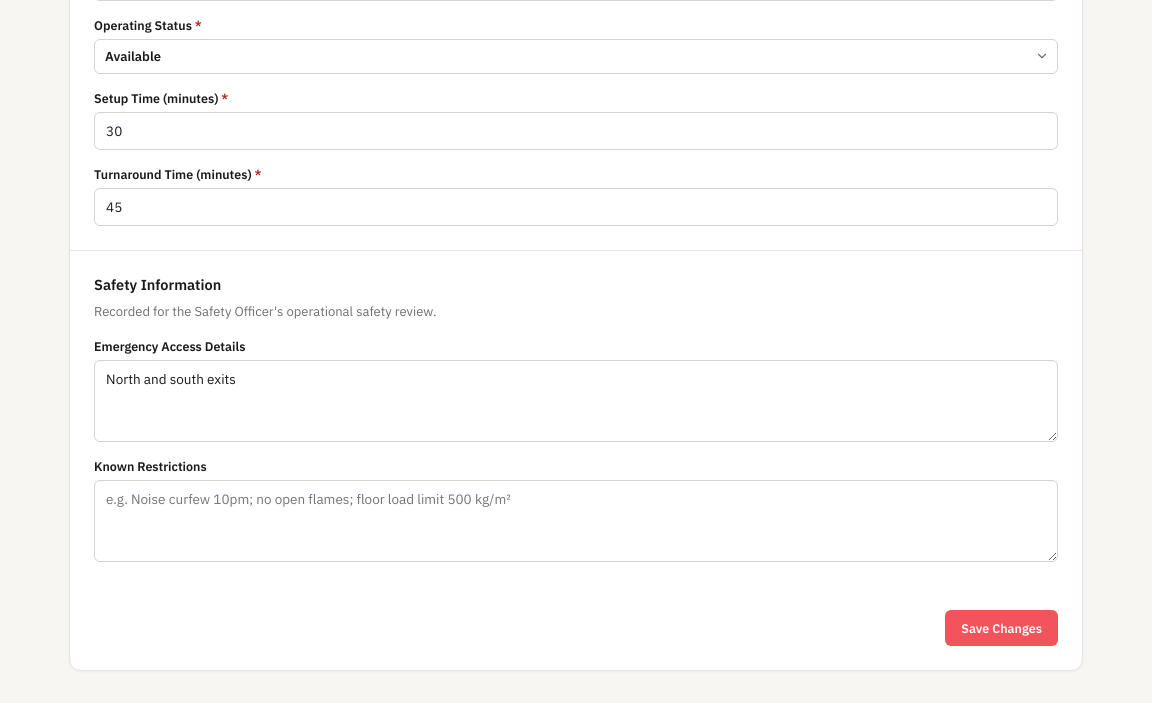
SCRUM-167 AC1: a failed safety save keeps the user on the form with what was typed
The image size is (1152, 703).
(page scrolled)
Replace the text in the text box labelled "Known Restrictions" with "Noise curfew 10pm": (576, 521) [94,480,1058,562]
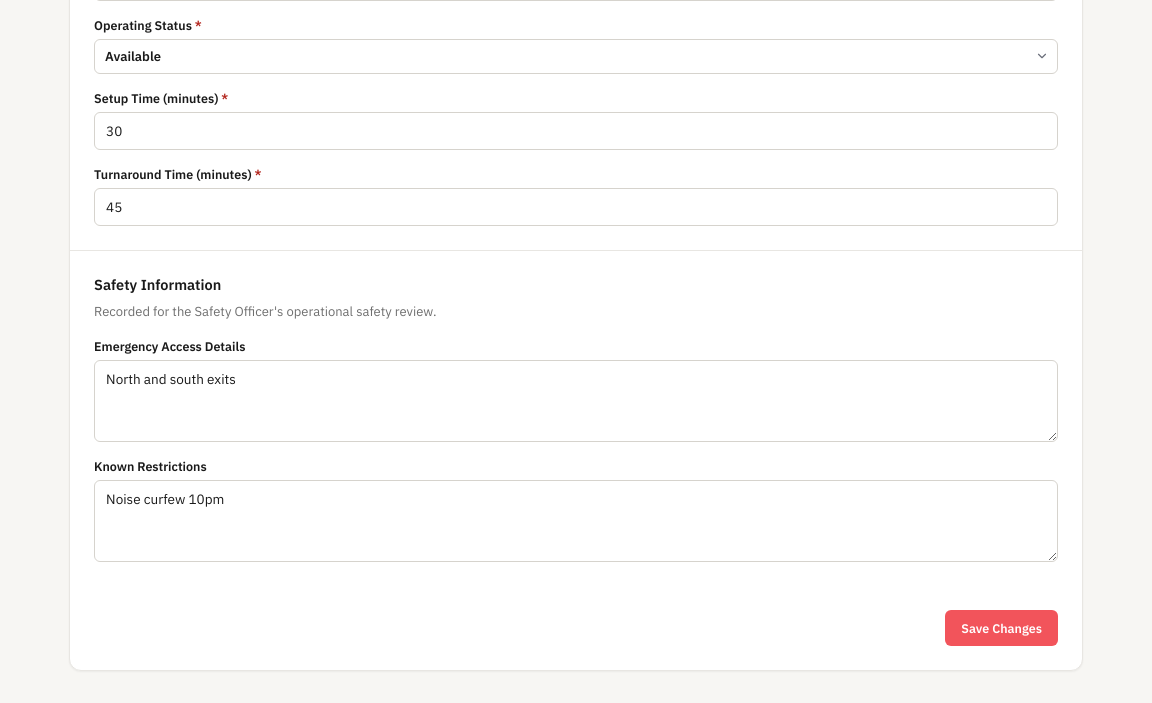
Click the button "Save Changes": (1002, 628) [945,610,1058,646]
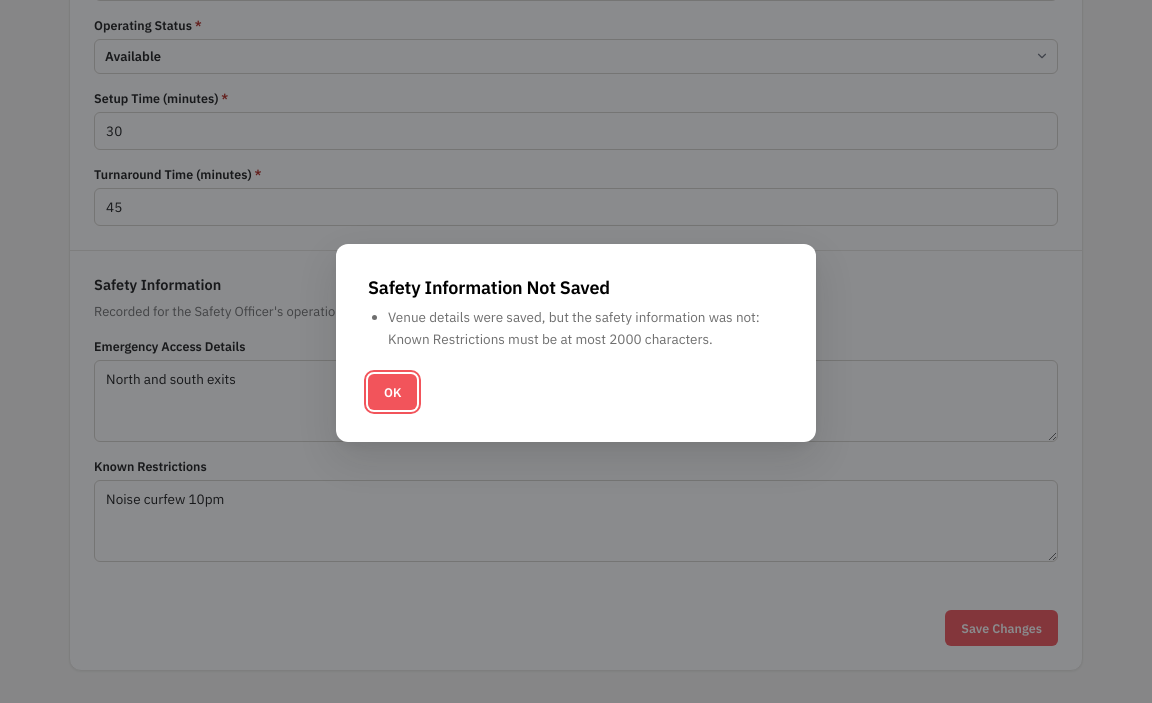
Now the list item "Venue details were saved, but the safety information was not: Known Restrictions must be at most 2000 characters." is shown, box [388,308,760,348]
